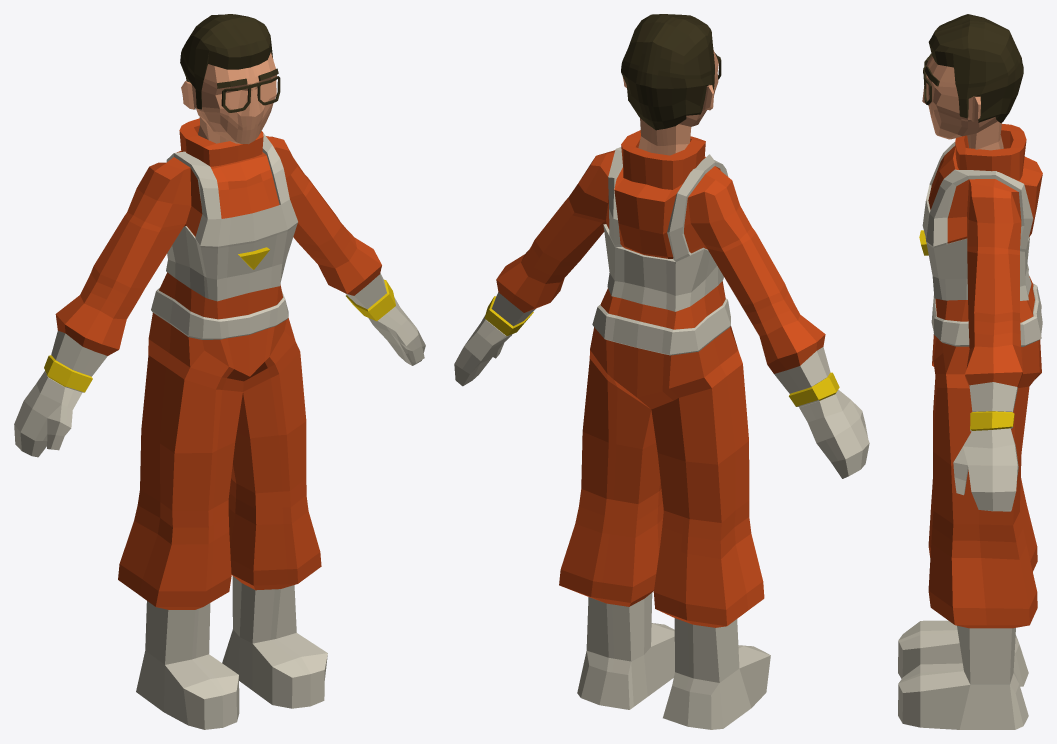
The model's file is PersonaggioOcchiali.fbx.
The picture shows the model from 3 angles, left to right: view 1: azimuth 30°, elevation 25°; view 2: azimuth 150°, elevation 25°; view 3: azimuth 270°, elevation 25°; orthographic projection.
Parts seen in each view (by area): view 1: Corpo.003, Cube.001; view 2: Corpo.003, Cube.001; view 3: Corpo.003, Cube.001.
Part boxes in pixels (box(x1,y1,x2,y2)): Corpo.003: box(14, 118, 425, 729); Cube.001: box(180, 14, 280, 144); Corpo.003: box(454, 130, 869, 729); Cube.001: box(621, 14, 721, 155); Corpo.003: box(898, 124, 1042, 729); Cube.001: box(922, 14, 1023, 150).
Bounding box in the file's own units: 710 × 1144 × 223.
